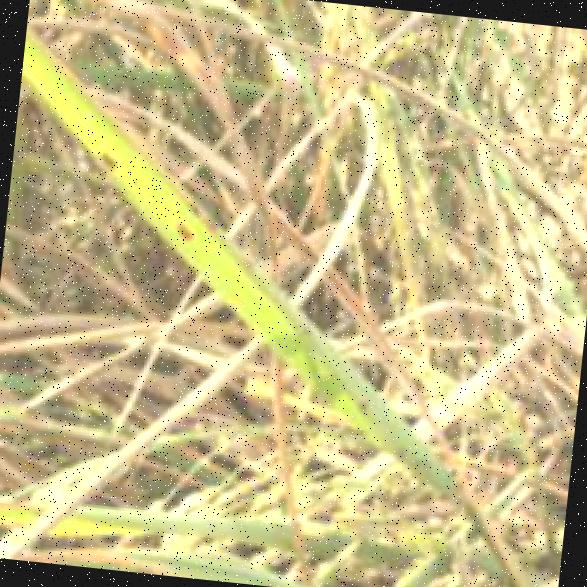Brown_Spot: (82, 132, 126, 175), (162, 206, 205, 244), (344, 389, 380, 416)
